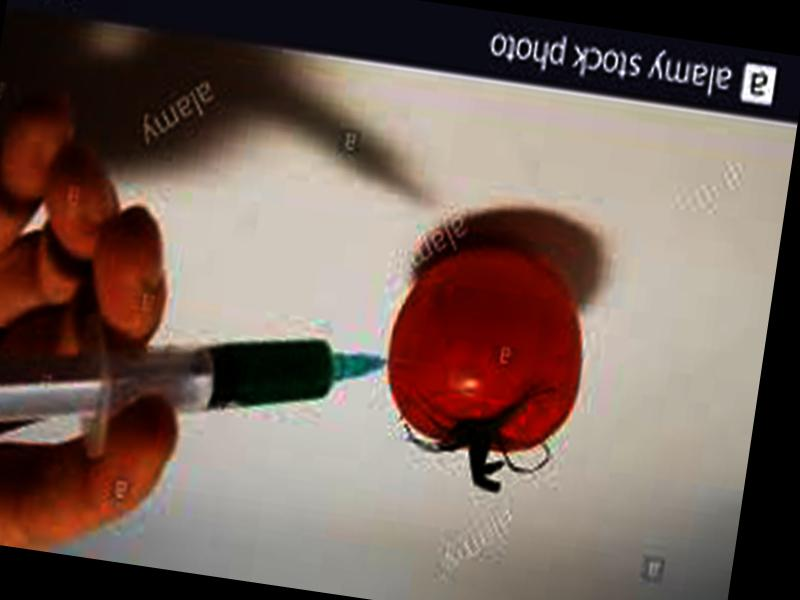Tomato: (377, 233, 594, 460)
